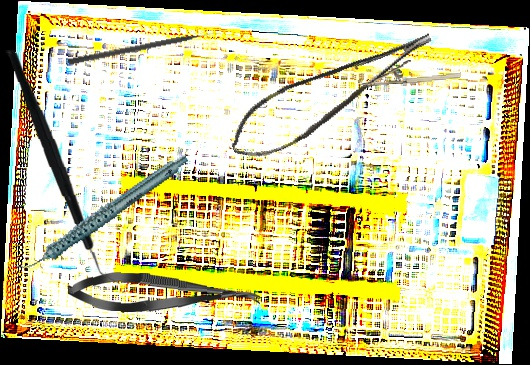Chopper: (5, 46, 122, 288)
Handpiece: (0, 154, 204, 274)
Micro Scissor: (218, 26, 449, 169), (67, 270, 261, 317)
Needle Holder: (358, 56, 462, 88)
Pusher: (67, 29, 219, 67)
